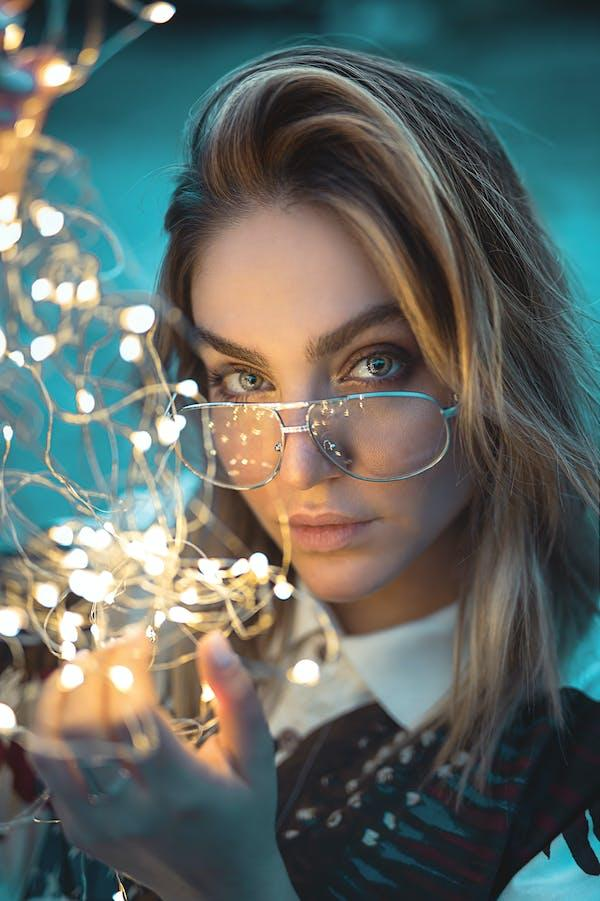eyeglasses: (135, 360, 458, 500)
